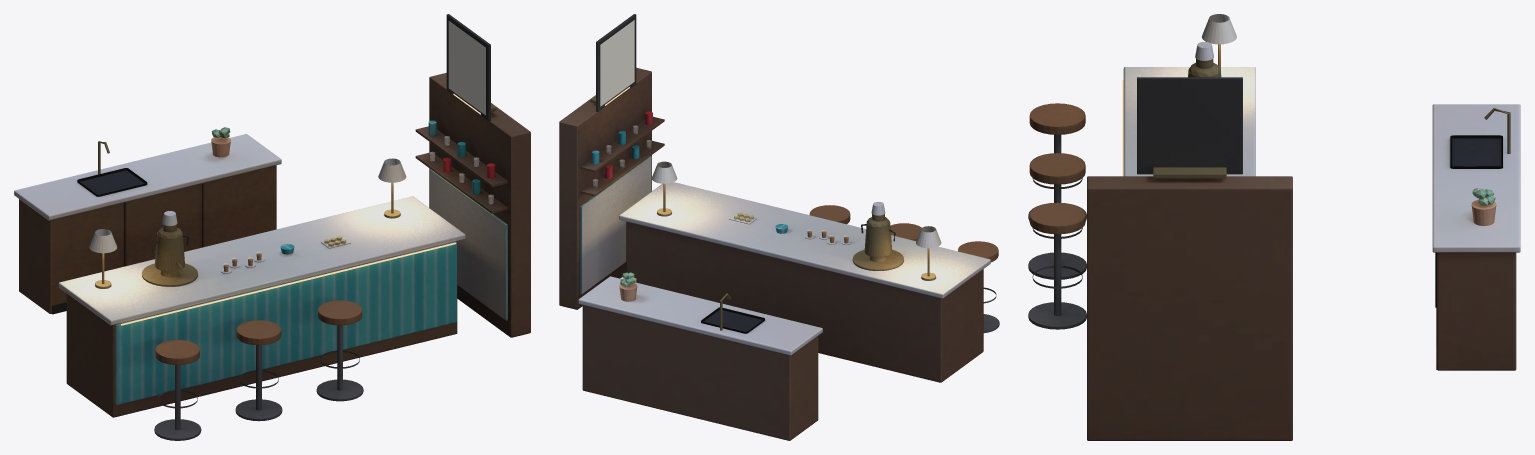
Rendered from teabar.glb.
3 views of the same model, side by side, from view 1: azimuth 30°, elevation 25°; view 2: azimuth 150°, elevation 25°; view 3: azimuth 270°, elevation 25° (orthographic). The views are drawn at different scales.
Parts seen in each view (by area): view 1: teabar_baked, screen_girih, island_led; view 2: teabar_baked, screen_girih; view 3: teabar_baked.
Boxes of the visible parts, x1,y1,x2,y2 form: teabar_baked: (14, 14, 530, 440); screen_girih: (448, 21, 485, 115); island_led: (121, 242, 456, 325); teabar_baked: (559, 14, 999, 440); screen_girih: (600, 20, 634, 106); teabar_baked: (1028, 14, 1520, 440).
Size of the model in its own units: 4 by 2.63 by 3.35.
Materials: 5 (1 with a texture image).
